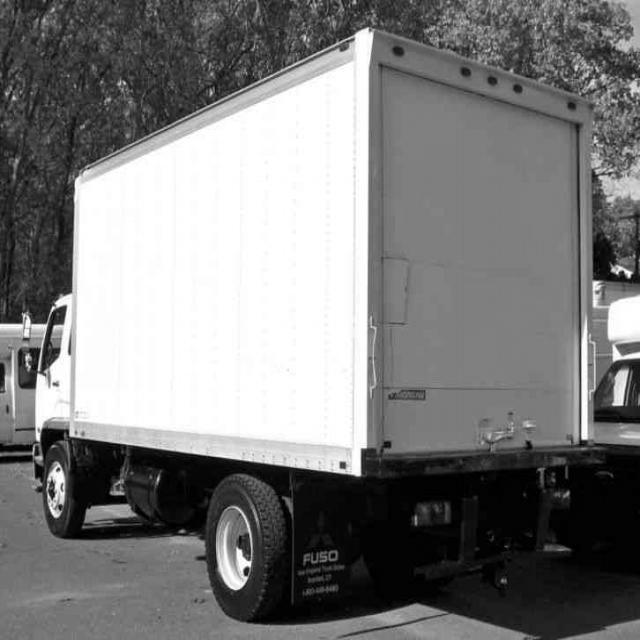truck: (1, 280, 93, 514)
